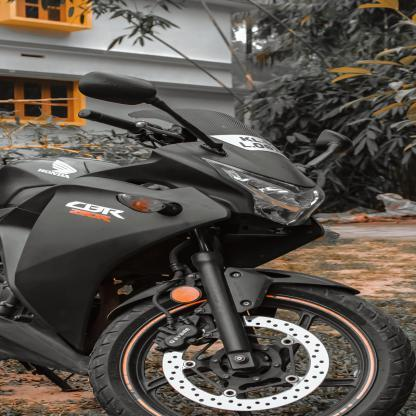Motorcycle: (4, 68, 416, 416)
